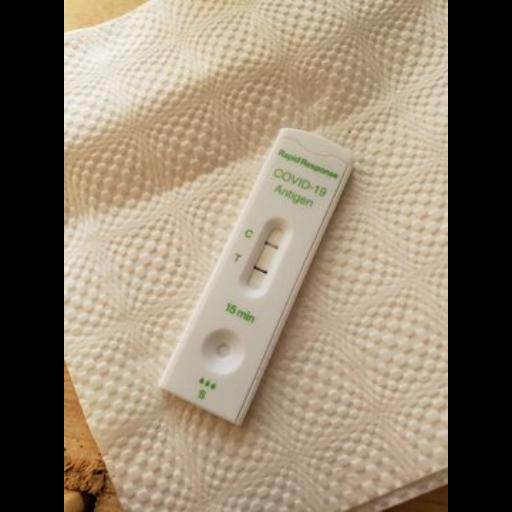Pos: (158, 129, 355, 425)
